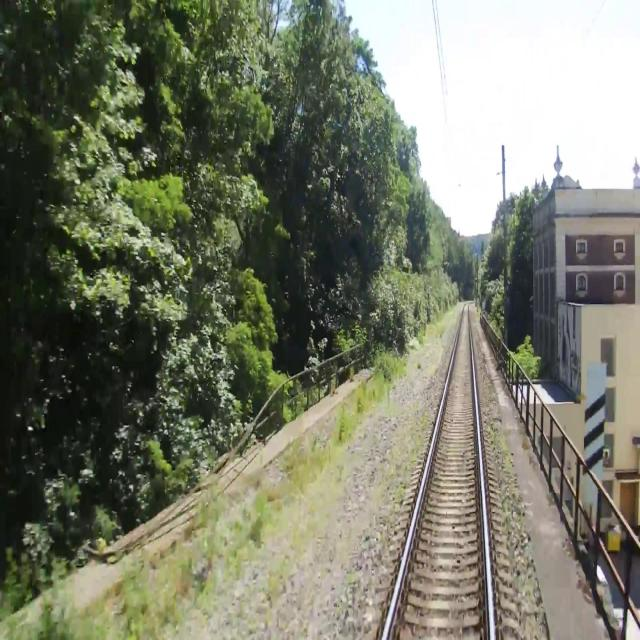rail-track: (386, 304, 489, 639)
